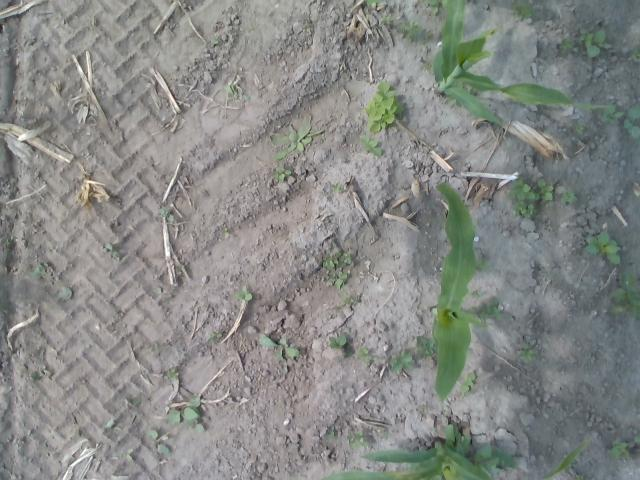Maize: (431, 0, 611, 128), (316, 432, 592, 480), (428, 183, 486, 406)
Weeds: (271, 118, 324, 161), (362, 81, 405, 134), (610, 270, 640, 322), (258, 334, 300, 369), (166, 396, 204, 434), (507, 176, 539, 220), (583, 230, 622, 265), (472, 444, 517, 473), (322, 252, 353, 290), (398, 18, 432, 48), (578, 28, 612, 58), (444, 422, 472, 458), (465, 299, 504, 321), (327, 333, 352, 358), (622, 104, 640, 138), (389, 348, 414, 372), (147, 430, 171, 455), (597, 102, 625, 123), (223, 83, 251, 102), (360, 136, 382, 159), (510, 0, 534, 21), (415, 335, 436, 358), (346, 429, 369, 449), (355, 346, 378, 366), (516, 342, 538, 362), (536, 178, 554, 202), (608, 439, 630, 458), (270, 164, 292, 182), (460, 370, 476, 394), (558, 36, 576, 56), (628, 30, 640, 60), (156, 206, 176, 223), (560, 187, 578, 205), (424, 0, 444, 15), (27, 264, 45, 280), (234, 284, 252, 300), (106, 242, 120, 260), (58, 285, 72, 302), (461, 82, 477, 96), (208, 330, 224, 344), (474, 258, 491, 271), (123, 396, 141, 408), (379, 15, 398, 24), (572, 122, 585, 134), (325, 426, 337, 439), (167, 368, 180, 380), (444, 97, 458, 108), (120, 449, 134, 460), (469, 290, 484, 300), (330, 182, 342, 194), (422, 59, 433, 72), (342, 294, 354, 305), (364, 0, 384, 6), (632, 429, 640, 444), (0, 302, 8, 315), (5, 236, 14, 246), (220, 228, 230, 236), (420, 406, 430, 414), (30, 372, 40, 380), (210, 37, 220, 44), (572, 475, 585, 480), (154, 286, 162, 294), (304, 22, 314, 28), (246, 26, 252, 32)
